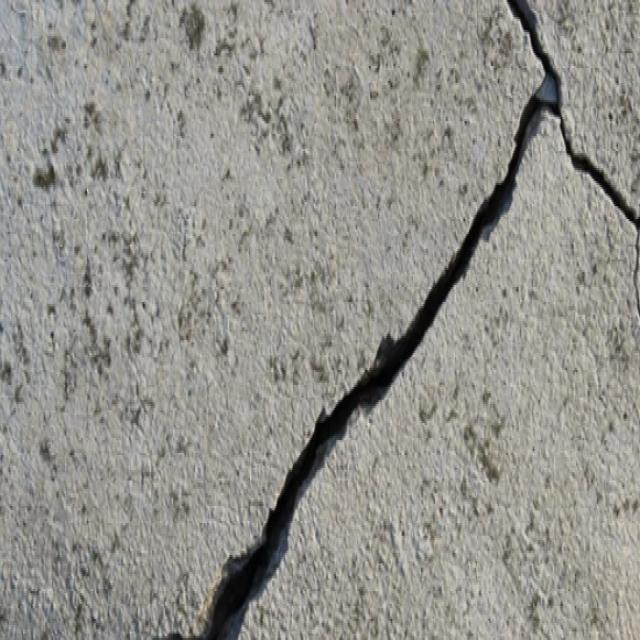branched cracks: (201, 0, 563, 639), (566, 137, 639, 228), (634, 227, 639, 320)
